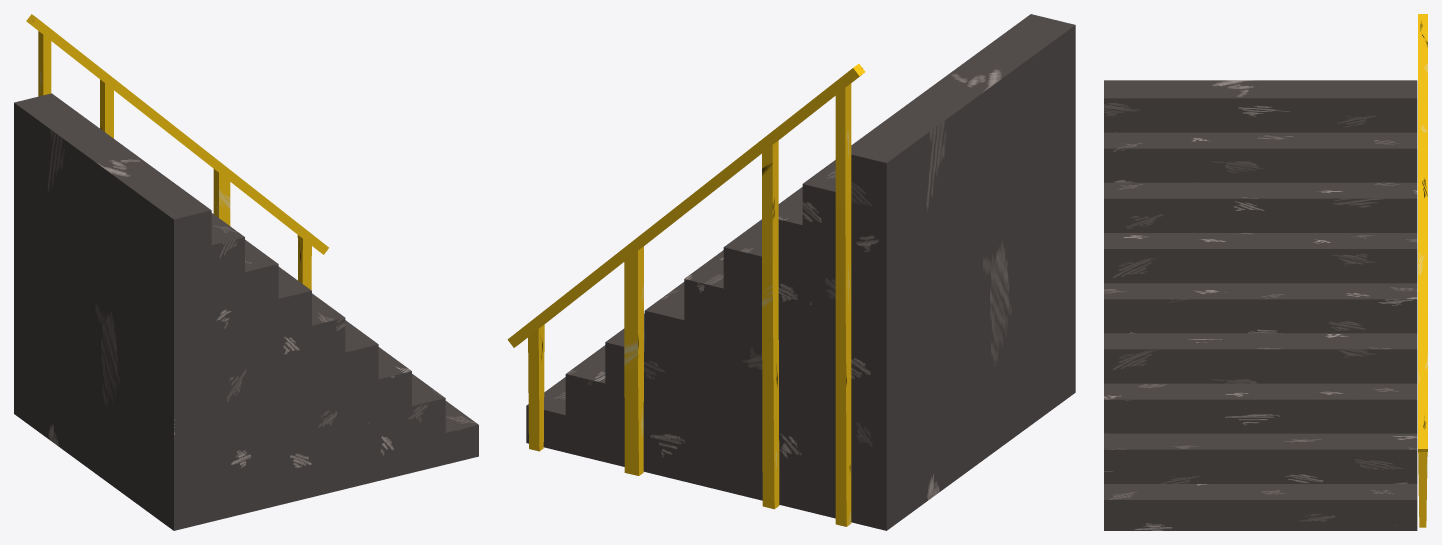
The model's file is escaliers.fbx.
3 renders of one model, left to right at view 1: azimuth 30°, elevation 25°; view 2: azimuth 150°, elevation 25°; view 3: azimuth 270°, elevation 25°, orthographic. The views are drawn at different scales.
Parts seen in each view (by area): view 1: Cube.001; view 2: Cube.001; view 3: Cube.001.
Part boxes in pixels (left/top/right/bottom): Cube.001: left=14, top=14, right=478, bottom=530; Cube.001: left=507, top=14, right=1075, bottom=530; Cube.001: left=1104, top=14, right=1427, bottom=530.
Size of the model in its own units: 228 by 270 by 207.
Materials: 2 (2 with a texture image).
